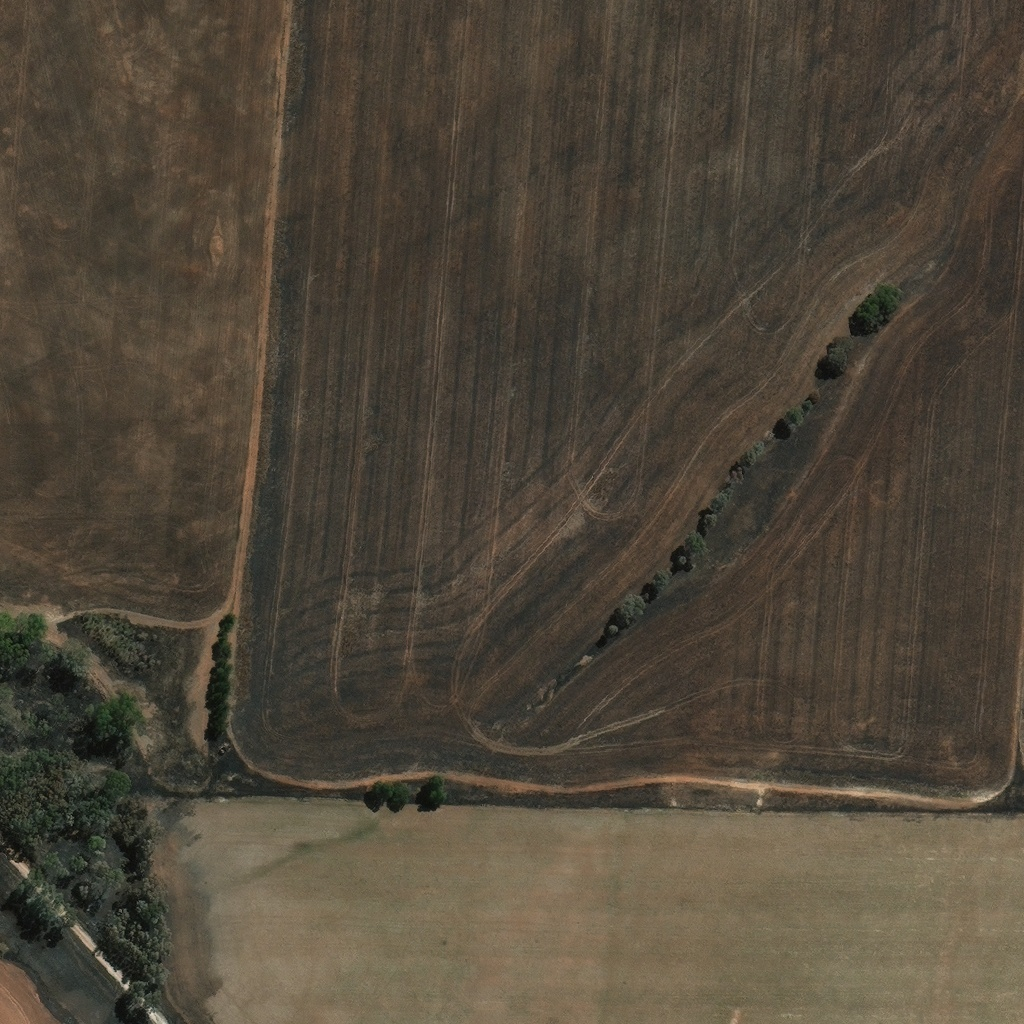4 un-classified: (341, 683, 357, 695), (814, 53, 826, 65)
